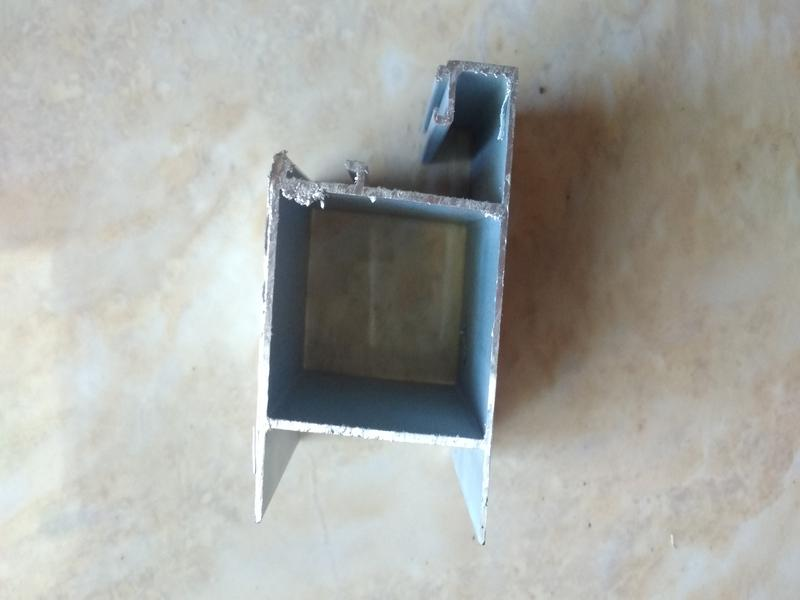Aluminium_2: (214, 26, 549, 558)
